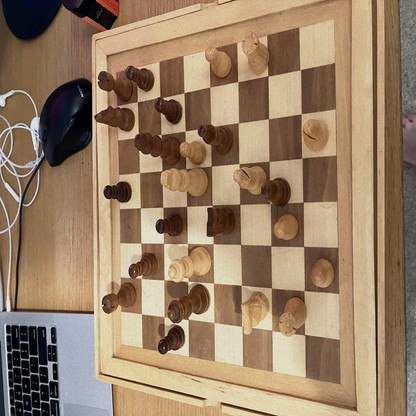bishop_black: (199, 124, 233, 154), (262, 177, 291, 206)
bishop_white: (233, 166, 266, 195), (303, 119, 330, 152)
king_black: (134, 134, 182, 164)
king_white: (161, 169, 209, 195)
knight_black: (95, 107, 135, 132), (207, 207, 235, 236)
knight_white: (241, 291, 269, 336)
pawn_black: (158, 326, 185, 355), (126, 65, 154, 91), (129, 252, 158, 277), (155, 98, 182, 123), (104, 182, 133, 203), (155, 214, 182, 236)
pawn_white: (205, 48, 231, 77), (179, 142, 207, 165), (312, 258, 334, 287), (274, 215, 298, 240)
queen_black: (168, 285, 210, 324)
queen_white: (168, 245, 212, 281)
rock_black: (102, 284, 137, 314), (98, 71, 131, 102)
rock_white: (241, 31, 269, 75), (278, 298, 308, 336)
